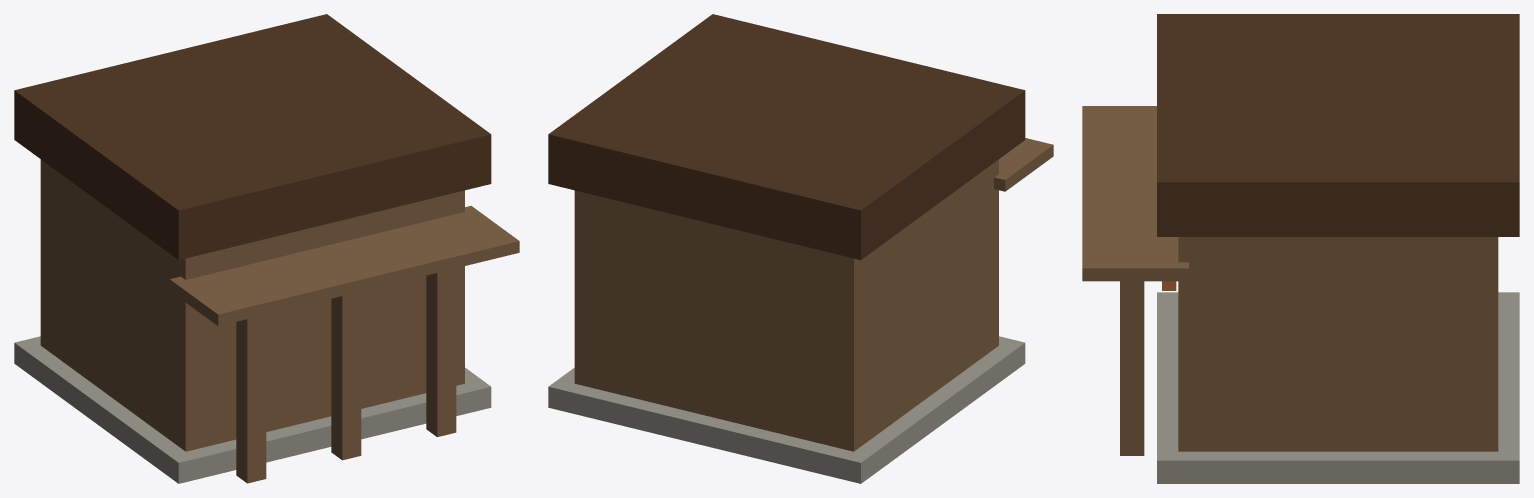
The model's file is bld_commercial_a01_lod2.glb.
The picture shows the model from 3 angles, left to right: view 1: azimuth 30°, elevation 25°; view 2: azimuth 150°, elevation 25°; view 3: azimuth 270°, elevation 25°; orthographic projection. The views are drawn at different scales.
Visible parts, largest first — view 1: body; view 2: body; view 3: body.
Part boxes in pixels (left/top/right/bottom): body: left=14, top=14, right=519, bottom=483; body: left=548, top=14, right=1053, bottom=483; body: left=1082, top=14, right=1519, bottom=483.
Bounding box in the file's own units: 5.6 × 4.68 × 6.15.
